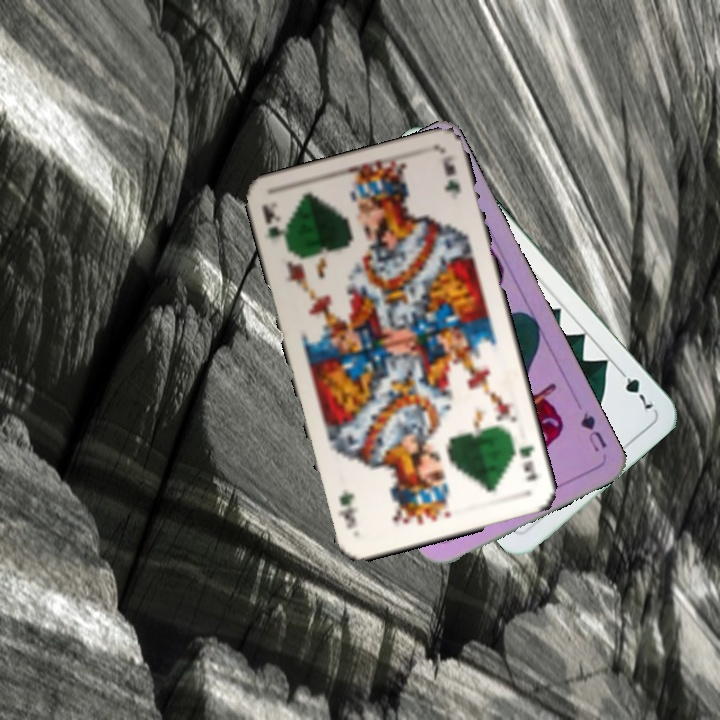G7: (613, 363, 656, 412)
GK: (258, 200, 293, 254), (515, 441, 541, 484)
GU: (576, 409, 610, 455)
